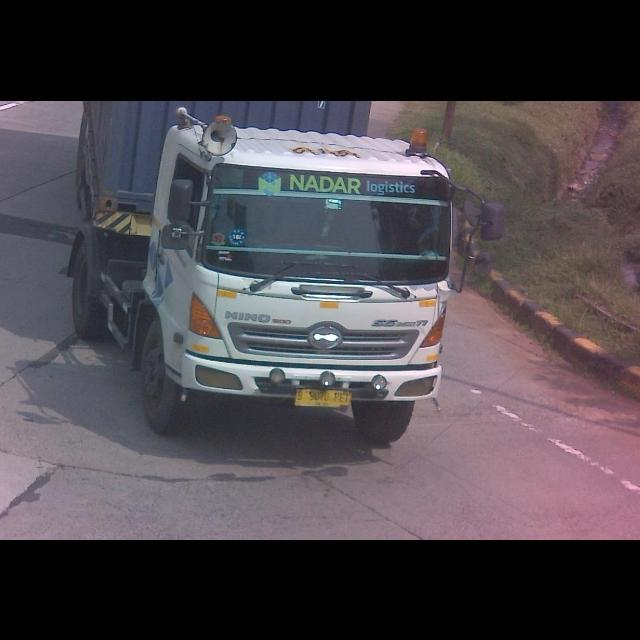plate: (294, 386, 352, 409)
